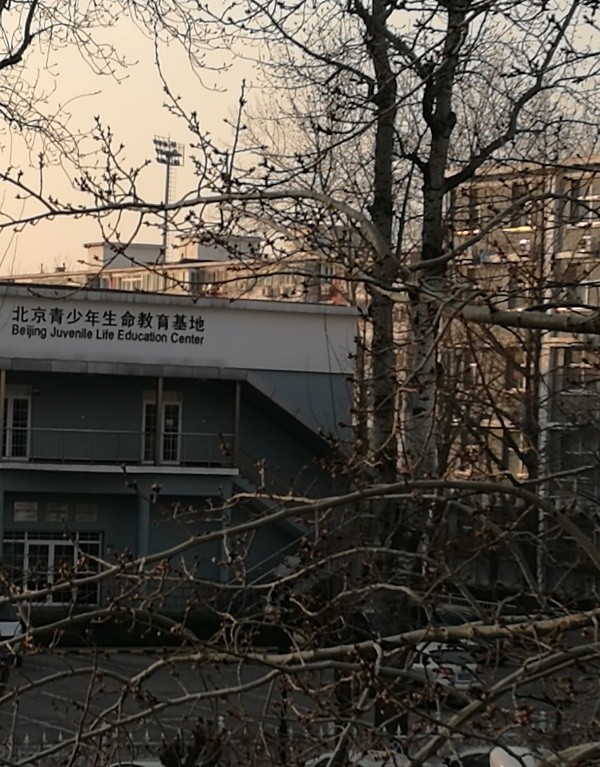text: (17, 304, 32, 334), (33, 304, 48, 334), (49, 304, 64, 334), (65, 304, 80, 334), (81, 304, 96, 334), (97, 304, 112, 334), (113, 304, 128, 334), (129, 304, 144, 334), (145, 304, 160, 334), (161, 304, 176, 334), (177, 304, 192, 334), (193, 304, 207, 334), (17, 324, 32, 341), (33, 324, 48, 341), (65, 326, 80, 341), (50, 326, 64, 341), (129, 330, 144, 344), (145, 330, 160, 344), (177, 332, 192, 346), (81, 326, 94, 341), (97, 328, 112, 341), (193, 332, 205, 346), (119, 330, 128, 344), (161, 330, 168, 344), (13, 304, 16, 334), (172, 332, 176, 346), (13, 324, 16, 341), (113, 328, 116, 341)
